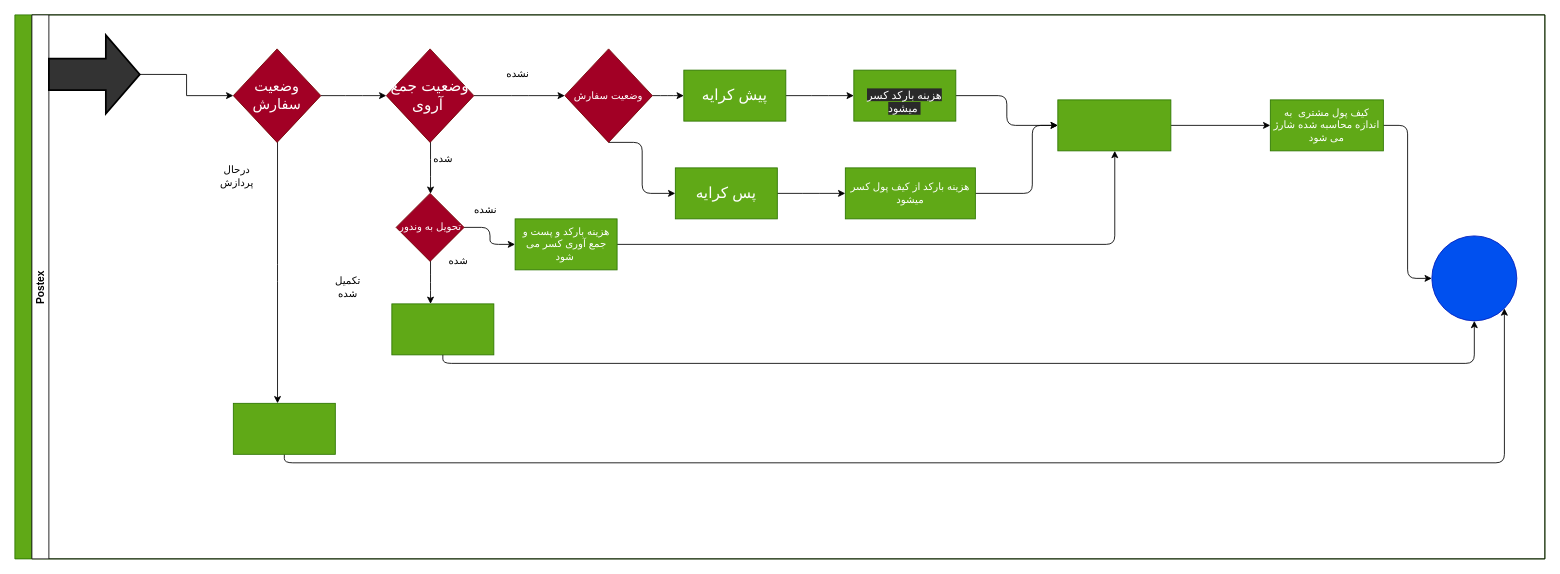
This 1560x574 diagram has some shape labels left out. Each missing label, with the box of its shape:
از کیف پول ذی نفعان این سفارش مبالغ کسر می شود: (1057, 99, 1171, 151)
امکان کنسلی وجود ندارد: (391, 303, 494, 355)
تمامی هزینه ها عودت داده می شود: (232, 402, 335, 454)
فرآیند کنسلی سفارش: (48, 34, 140, 114)
پایان: (1431, 235, 1517, 321)
